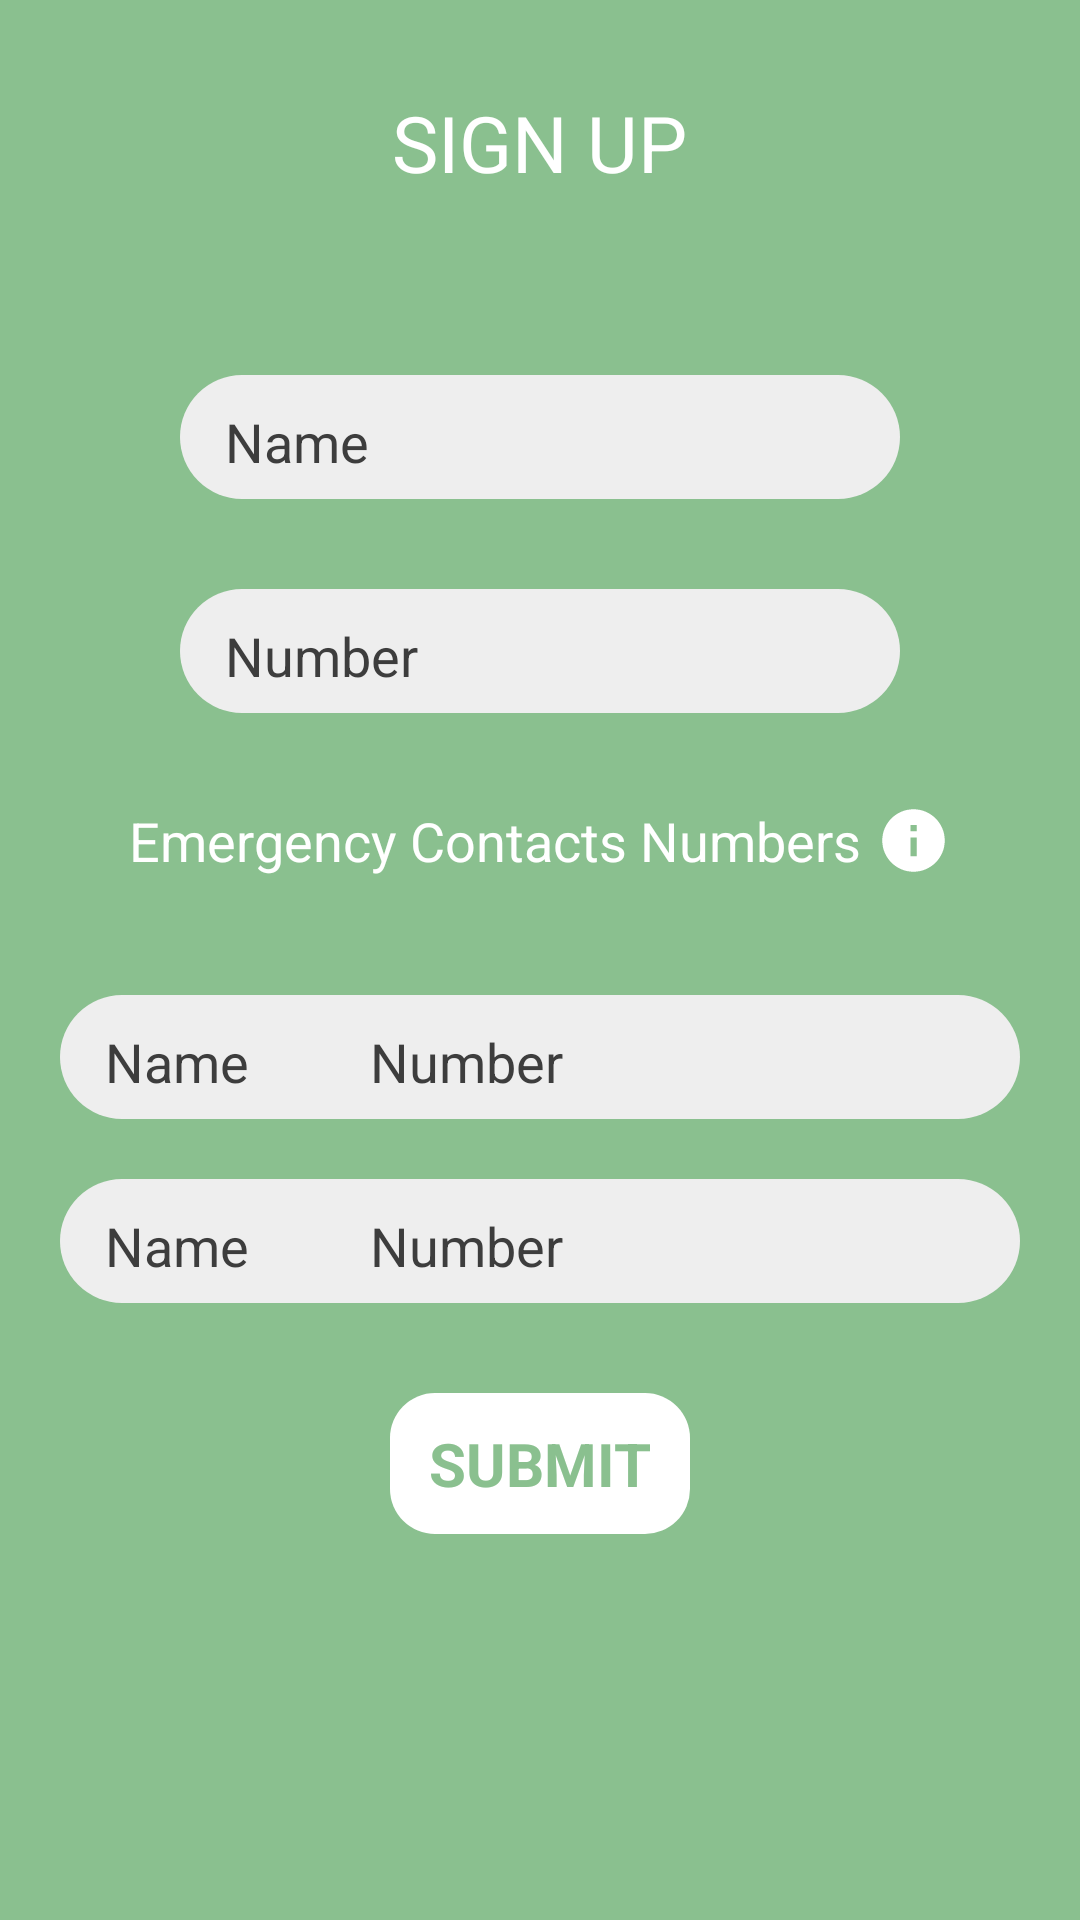

Icons on this 1080x1920 Android screen, each with the point to tap as (x=x, y=y):
info: (x=913, y=840)
